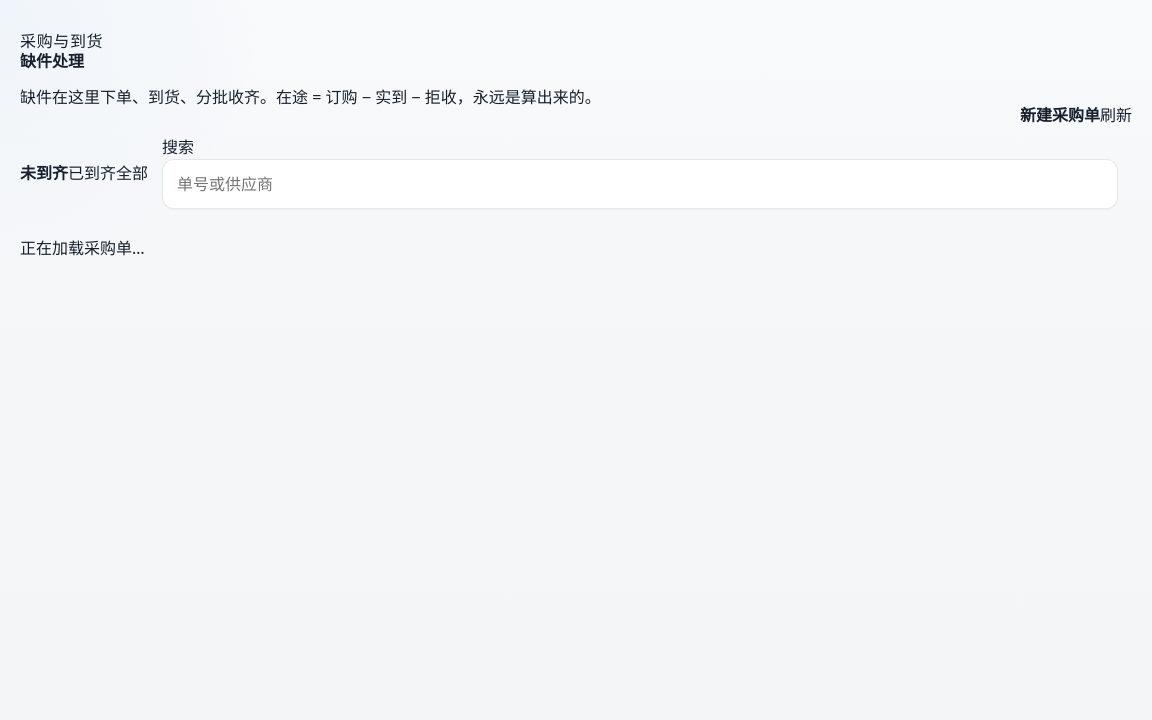
it: 采购页 · 未知写入结果恢复 › 提供操作查询；确认失败后解除旧请求并保留表单供修正
The image size is (1152, 720).
Click the button "新建采购单": click(1060, 114) top-left (1020, 102), bottom-right (1100, 126)
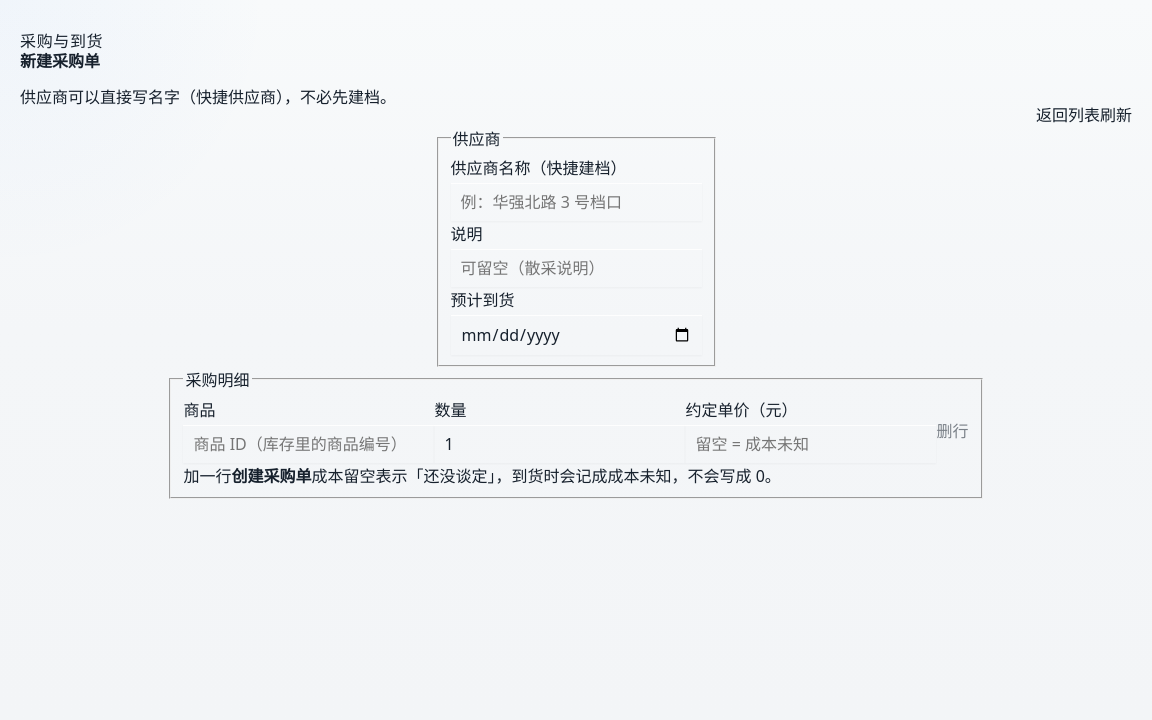
In the field labelled "供应商名称（快捷建档）": (576, 202) top-left (450, 183), bottom-right (702, 221), type "演示档口"
In the field labelled "商品": (309, 444) top-left (184, 425), bottom-right (434, 463), type "product-1"
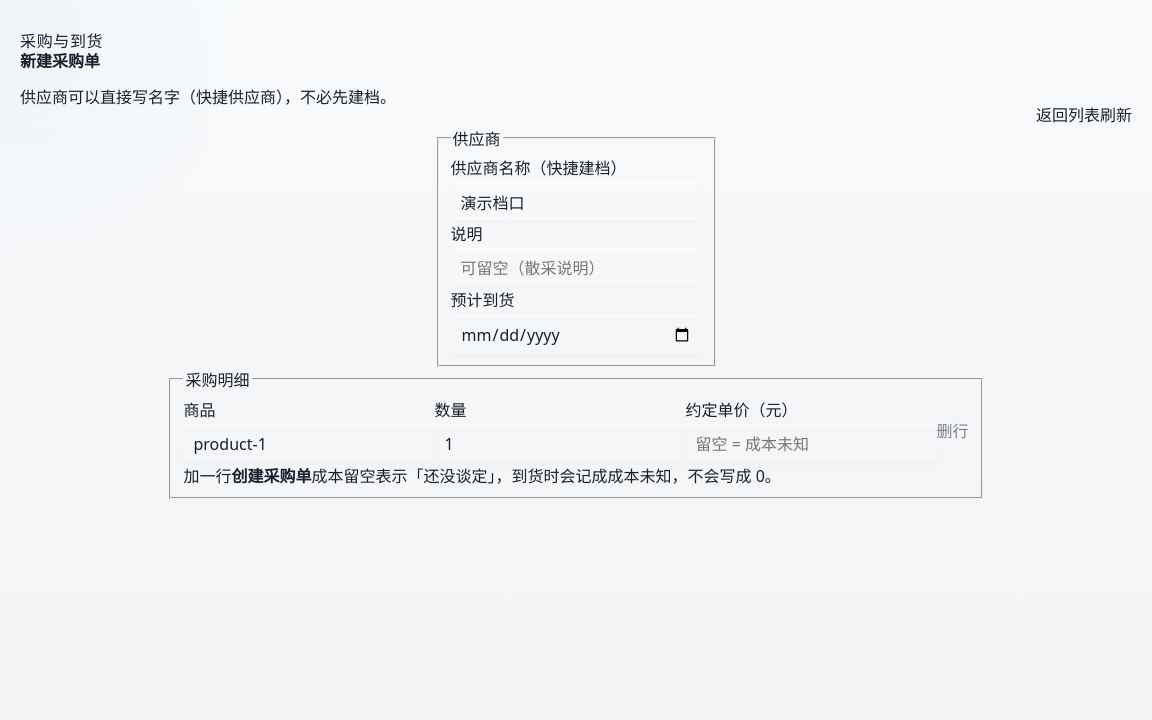
Replace the text in the field labelled "数量" with "2": (560, 444) top-left (434, 425), bottom-right (686, 463)
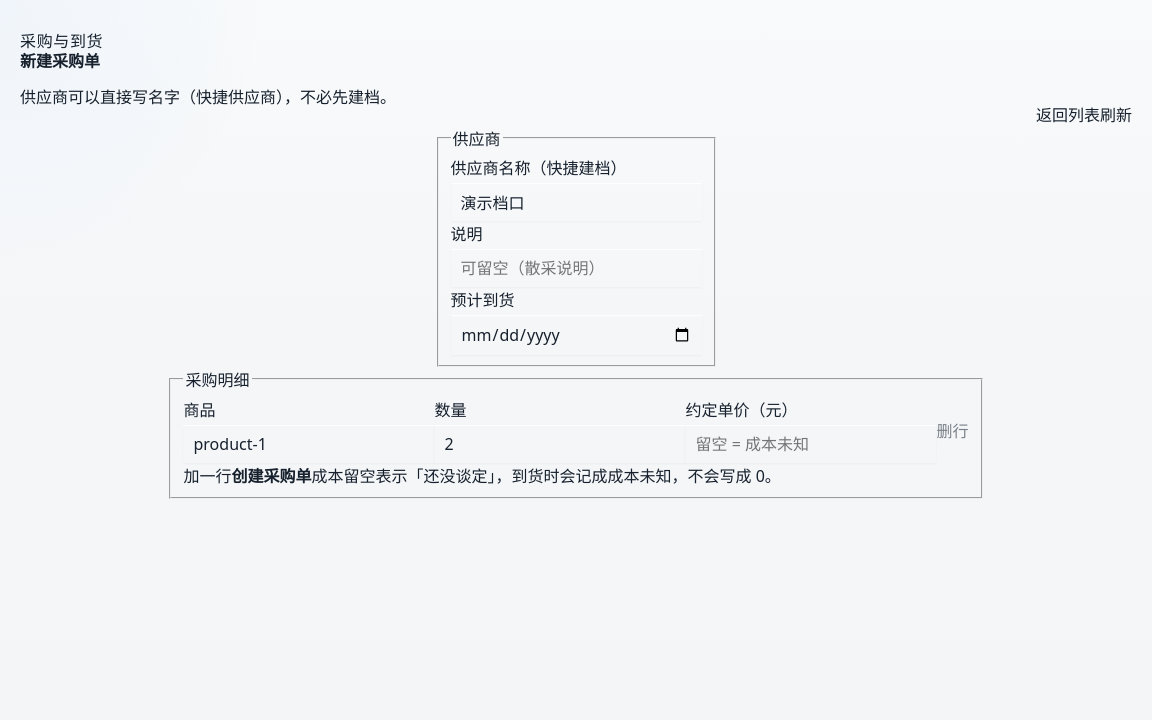
In the field labelled "约定单价（元）": (811, 444) top-left (686, 425), bottom-right (936, 463), type "120"
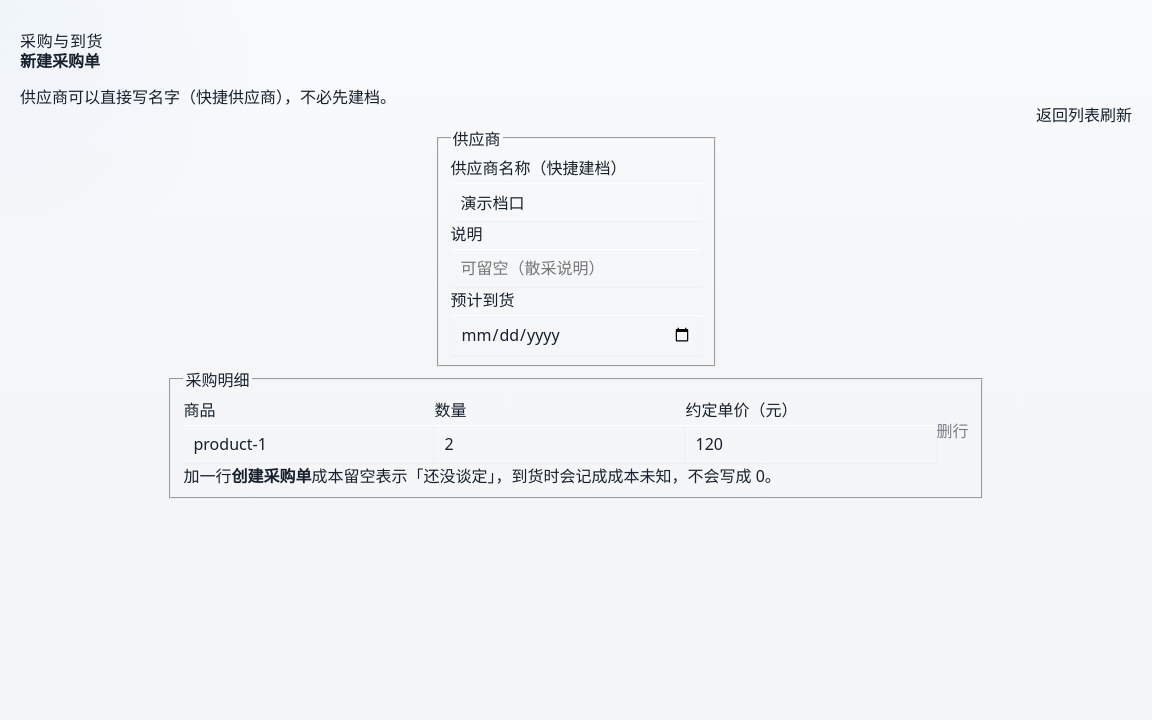
Click the button "创建采购单": click(272, 475) top-left (232, 463), bottom-right (312, 487)
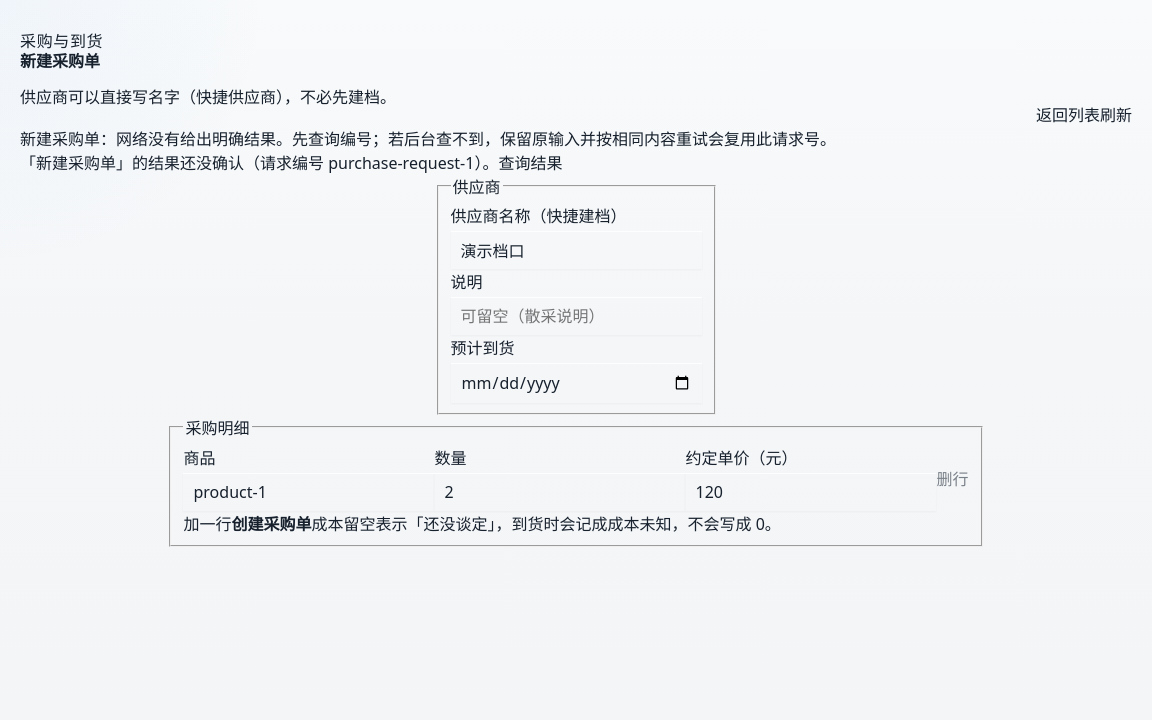
Expected: the text "新建采购单：网络没有给出明确结果。先查询编号；若后台查不到，保留原输入并按相同内容重试会复用此请求号。" is shown, top-left (20, 128), bottom-right (836, 150)
Click the button "查询结果": click(530, 162) top-left (498, 150), bottom-right (562, 174)
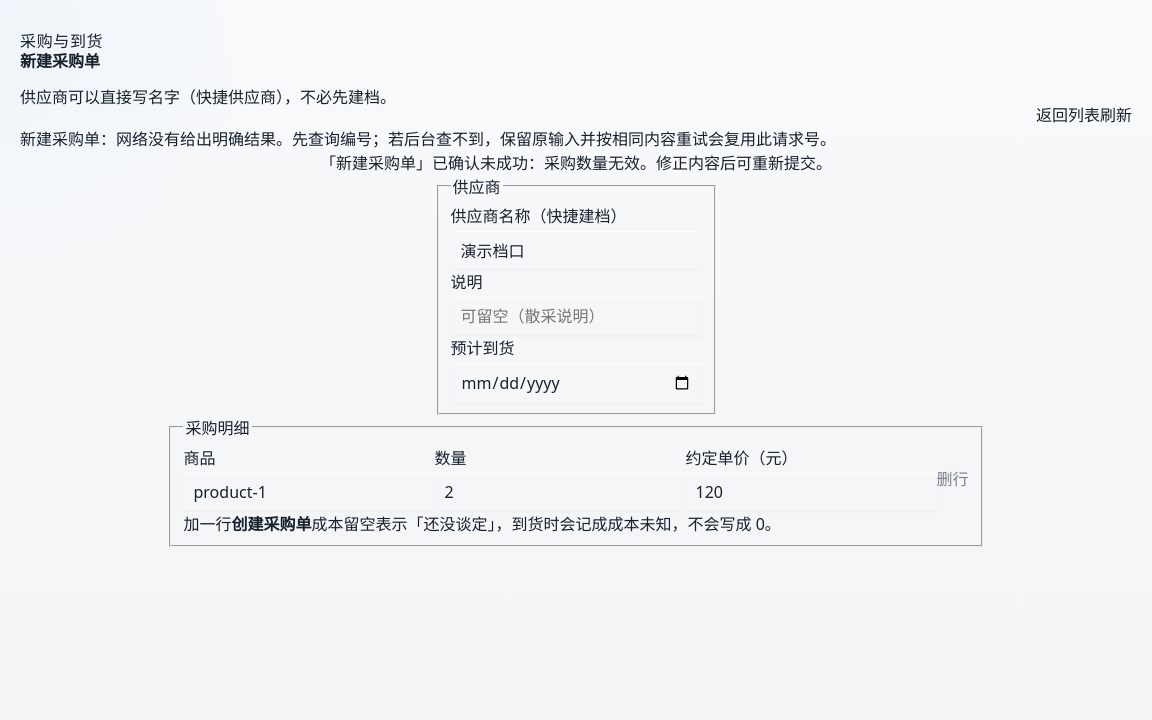
Expected: the text "「新建采购单」已确认未成功：采购数量无效。修正内容后可重新提交。" is shown, top-left (320, 150), bottom-right (832, 174)
Expected: the button "查询结果" is gone
